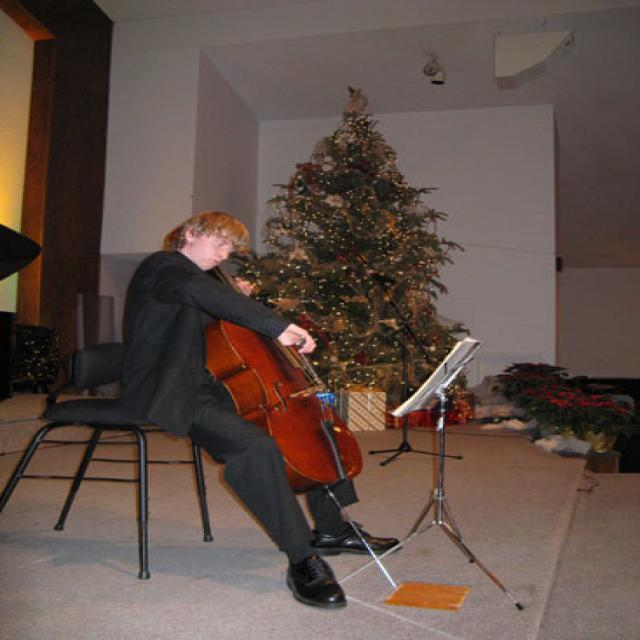cello: (205, 259, 366, 496)
